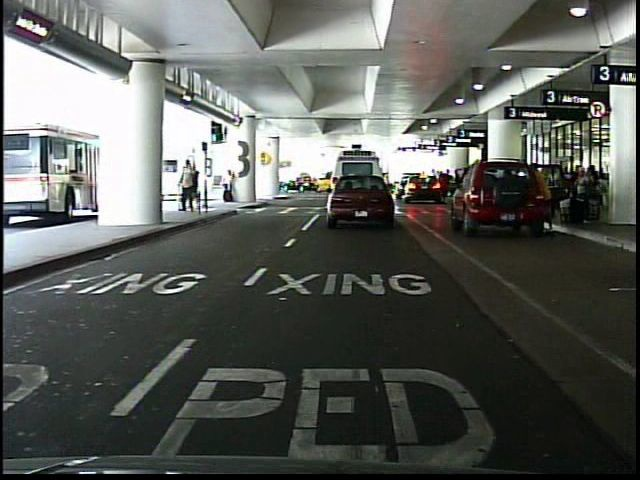person: (528, 158, 557, 229), (175, 157, 194, 214), (222, 167, 241, 206), (191, 162, 205, 210)
